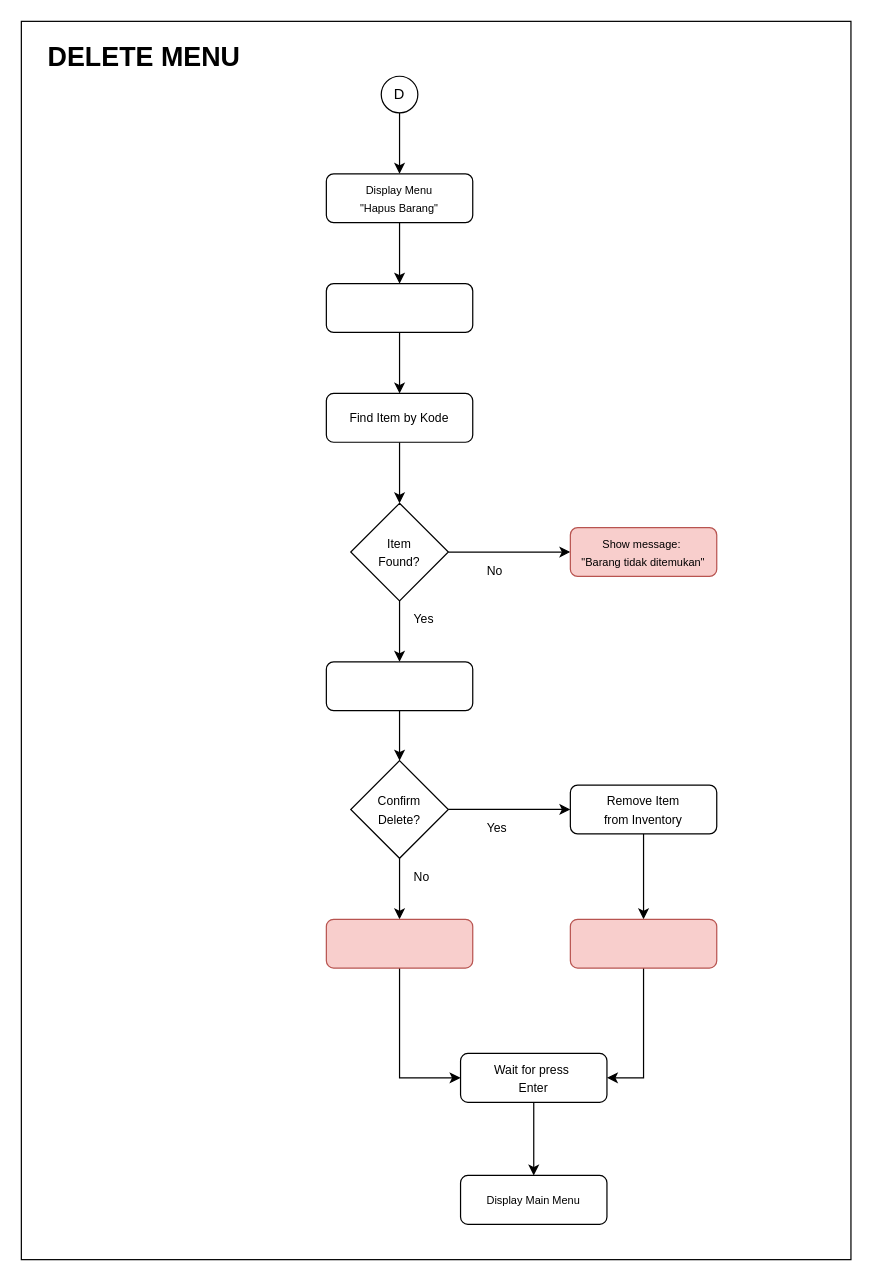
Some shapes in this 872 by 1281 pixel diagram are drawn without their labels. The shapes that lost their labels are listed below. From the top down, each one's centre as x and y in pixels, then its label:
point 399,307: Input Kode Barang
point 399,686: Display Item Details
point 399,943: Show message: "Penghapusan dibatalkan"
point 643,943: Show message: "Barang berhasil dihapus"
